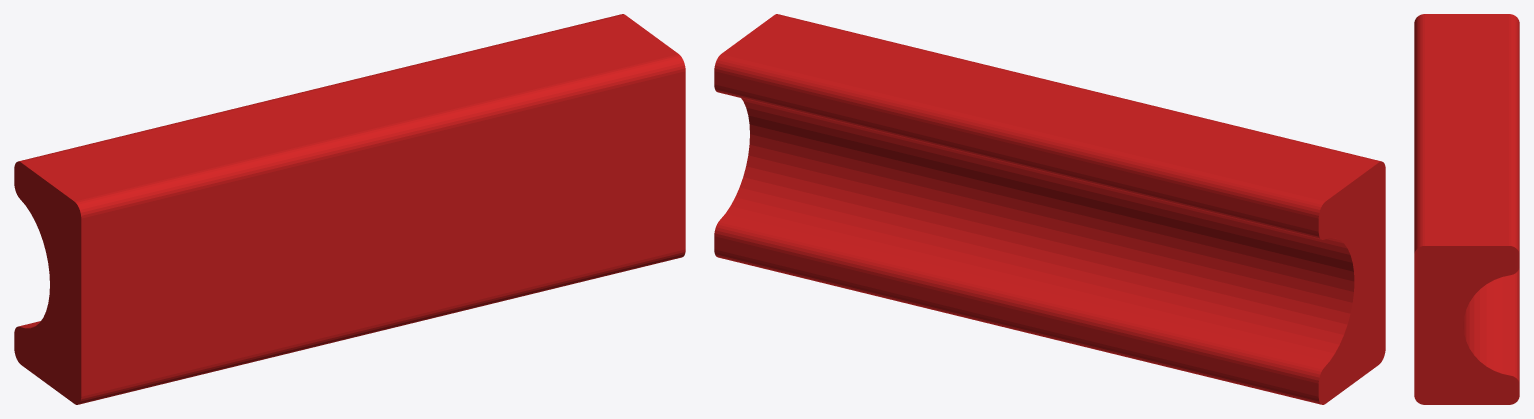
File: peg_36_canonical_colored.obj
3 views of the same model, side by side, from view 1: azimuth 30°, elevation 25°; view 2: azimuth 150°, elevation 25°; view 3: azimuth 270°, elevation 25° (orthographic). The views are drawn at different scales.
Bounding box in the file's own units: 0.15 × 0.048 × 0.0288.
